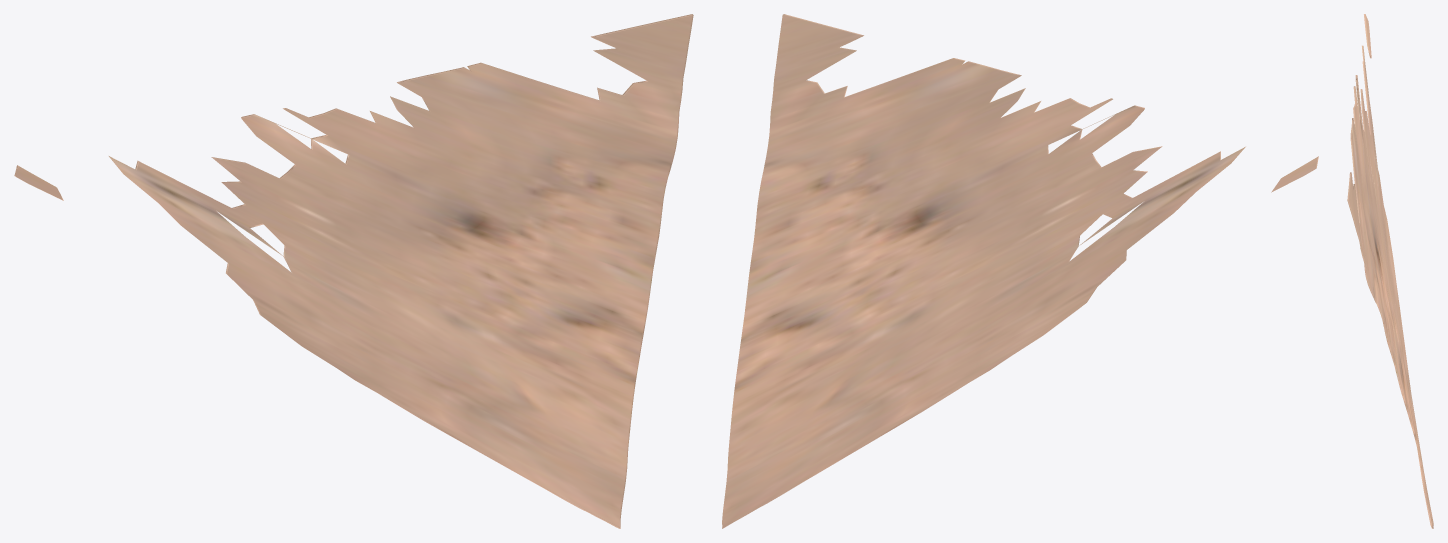
3 renders of one model, left to right at view 1: azimuth 30°, elevation 25°; view 2: azimuth 150°, elevation 25°; view 3: azimuth 270°, elevation 25°, orthographic. The views are drawn at different scales.
Size of the model in its own units: 20.18 by 16.58 by 3.95.
1 material, 1 textured.
